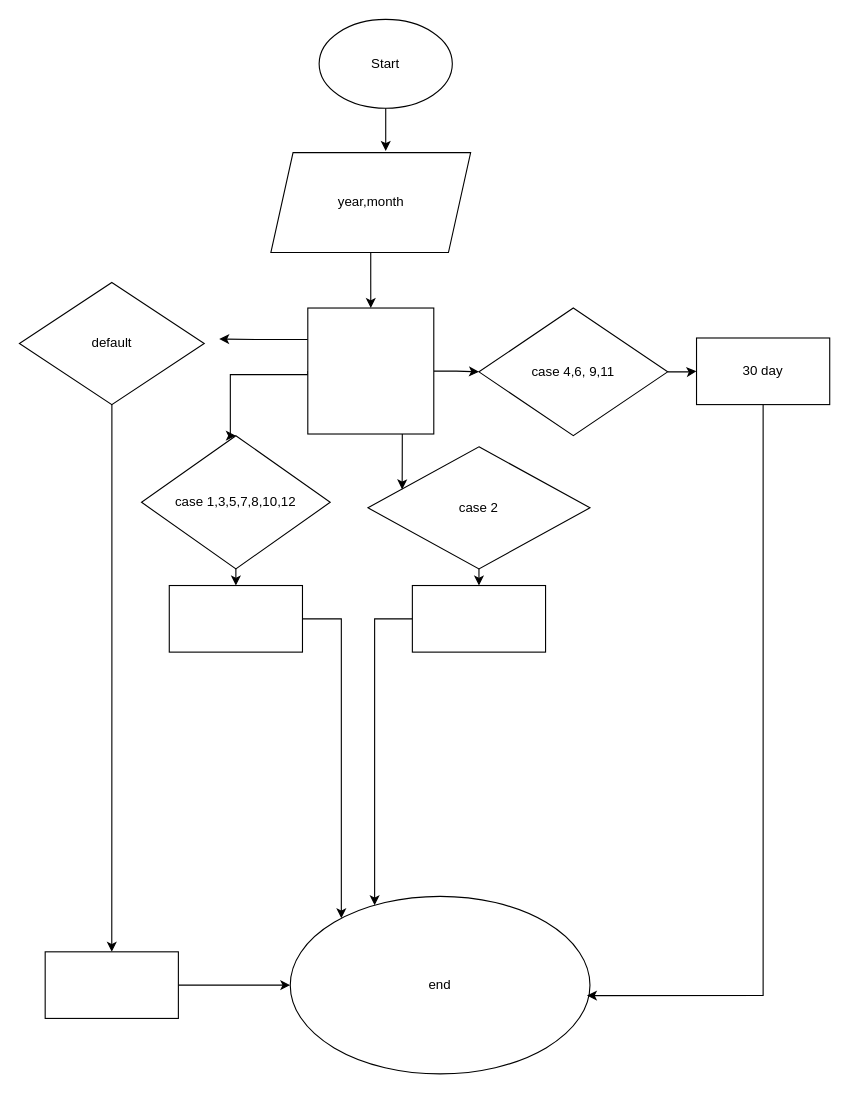
Image size: 849x1093. Some labels were removed from this diagram. Here are the shapes that lost their labels. From the top down, the box of each, then its label:
(307, 307, 434, 434): switch(month)
(168, 584, 302, 652): 31 days
(411, 584, 546, 652): 28days
(44, 951, 178, 1018): nhap sai
